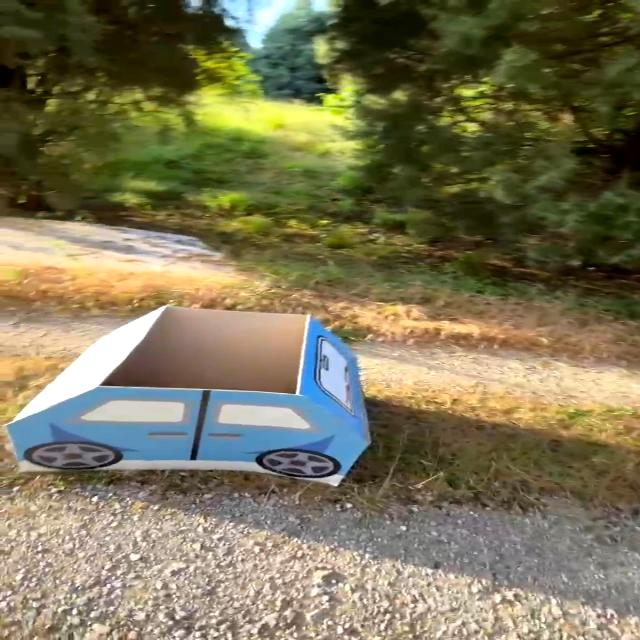blue_car: (0, 291, 420, 528)
